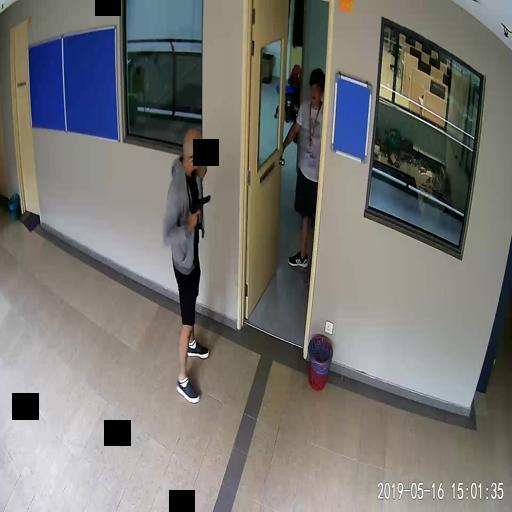Handgun: (189, 194, 210, 222)
